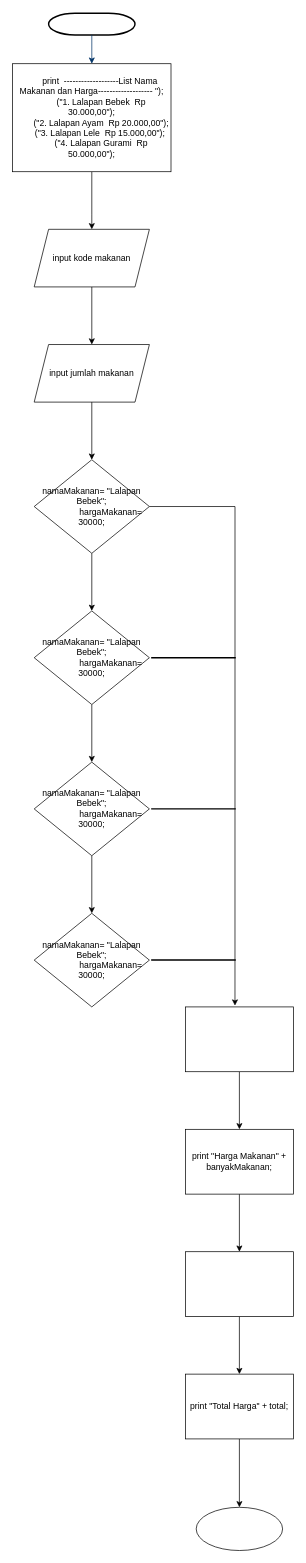
Image size: 306x1563. Some labels were removed from this diagram. The centre of each missing label's shape, as x and y in pixels:
end: (239,1529)
print "Banyak Makanan" + banyakMakanan;: (239,1284)
print "Nama Makanan" + namaMakanan;: (239,1039)
start: (91,23)
